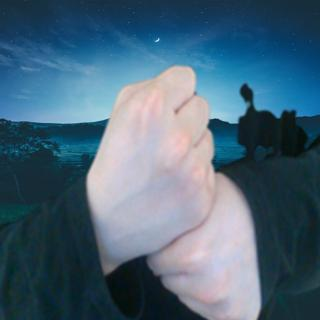CAREFUL: (81, 59, 264, 320)
